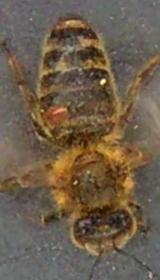varroa_mite: (40, 102, 75, 134)
